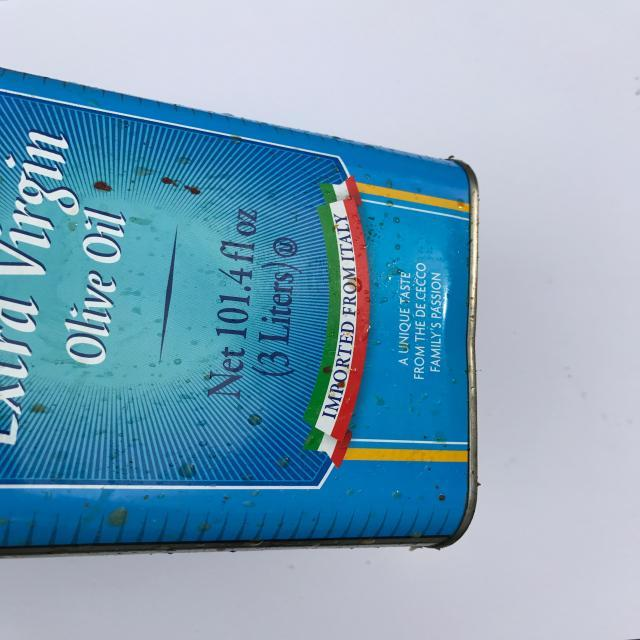metal: (1, 69, 478, 552)
